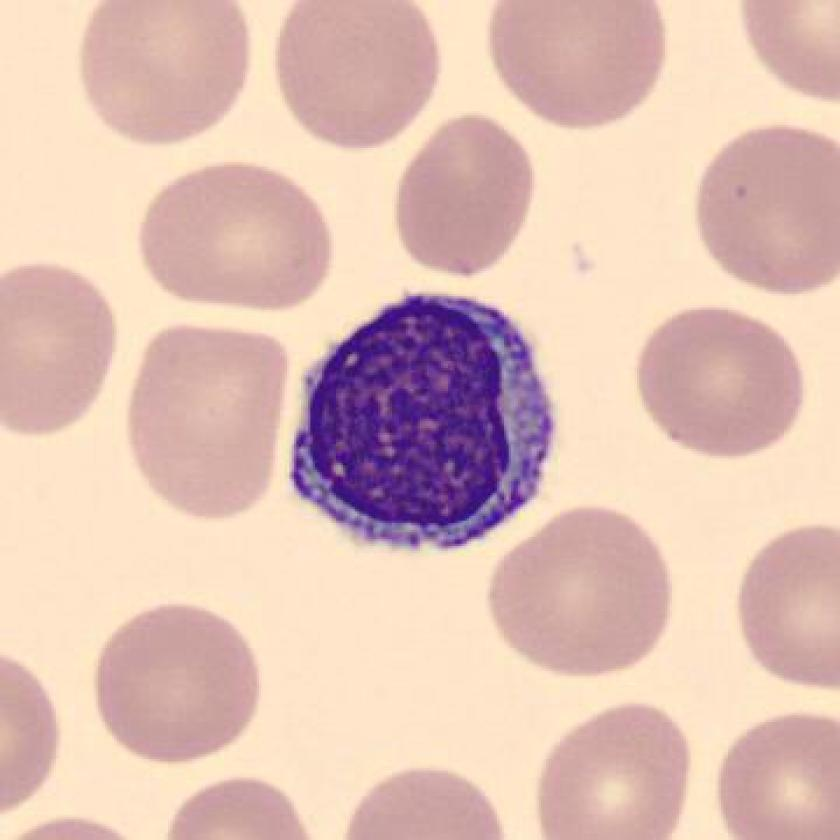lymphocyte: (277, 274, 578, 575)
